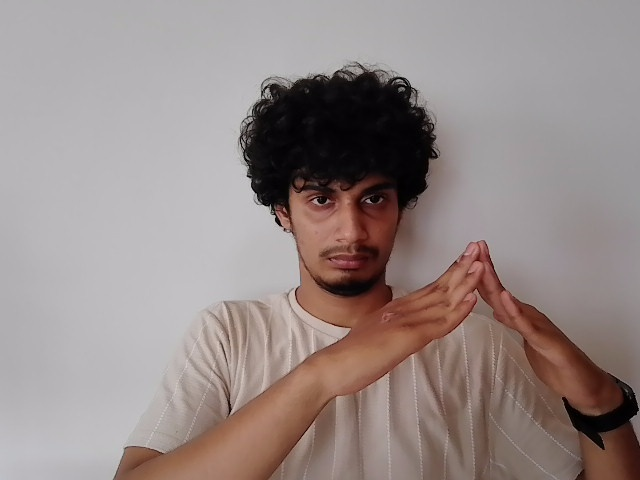home: (328, 237, 604, 405)
